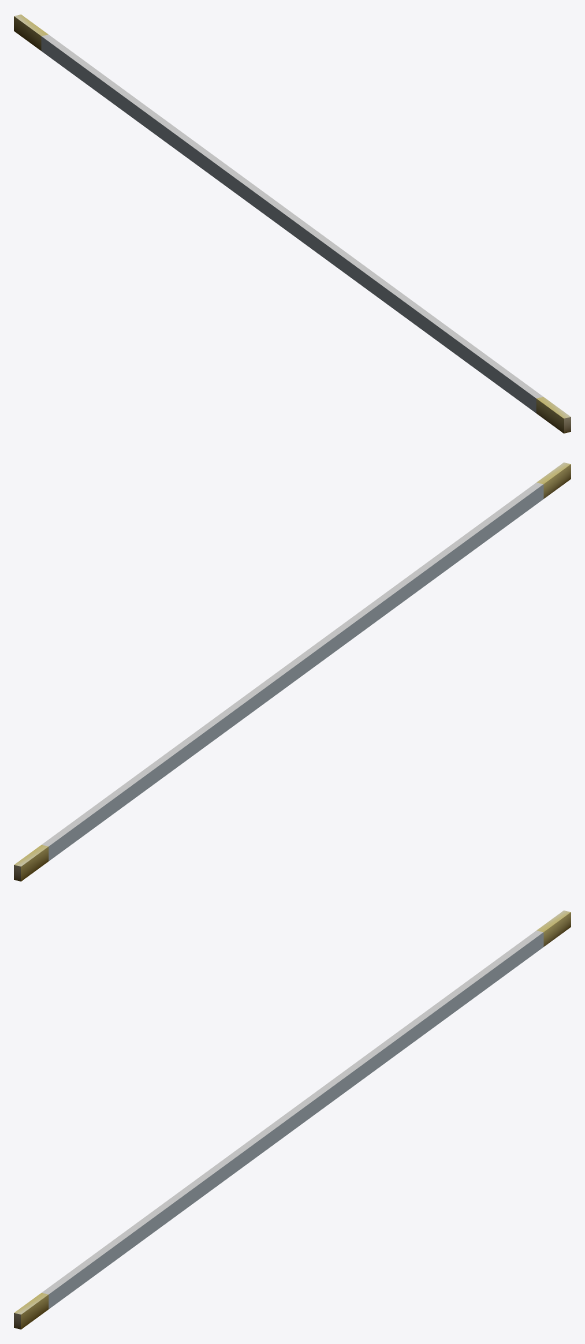
Rendered from Grindrail02.gltf.
The picture shows the model from 3 angles, top to bottom: view 1: azimuth 30°, elevation 25°; view 2: azimuth 150°, elevation 25°; view 3: azimuth 330°, elevation 25°; orthographic projection.
Visible parts, largest first — view 1: Grindrail02Mesh; view 2: Grindrail02Mesh; view 3: Grindrail02Mesh.
Boxes of the visible parts, left/top/right/bottom form: Grindrail02Mesh: left=14, top=14, right=570, bottom=433; Grindrail02Mesh: left=14, top=462, right=570, bottom=881; Grindrail02Mesh: left=14, top=910, right=570, bottom=1329.
Size of the model in its own units: 0.15 by 0.3 by 20.
